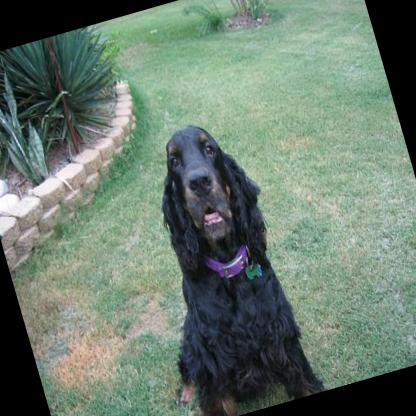Gordon_setter: (100, 103, 327, 416)
